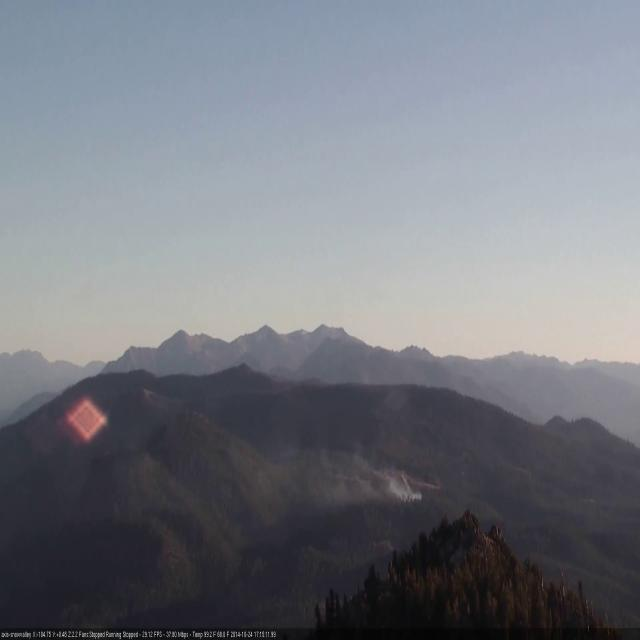smoke: (256, 408, 432, 512)
